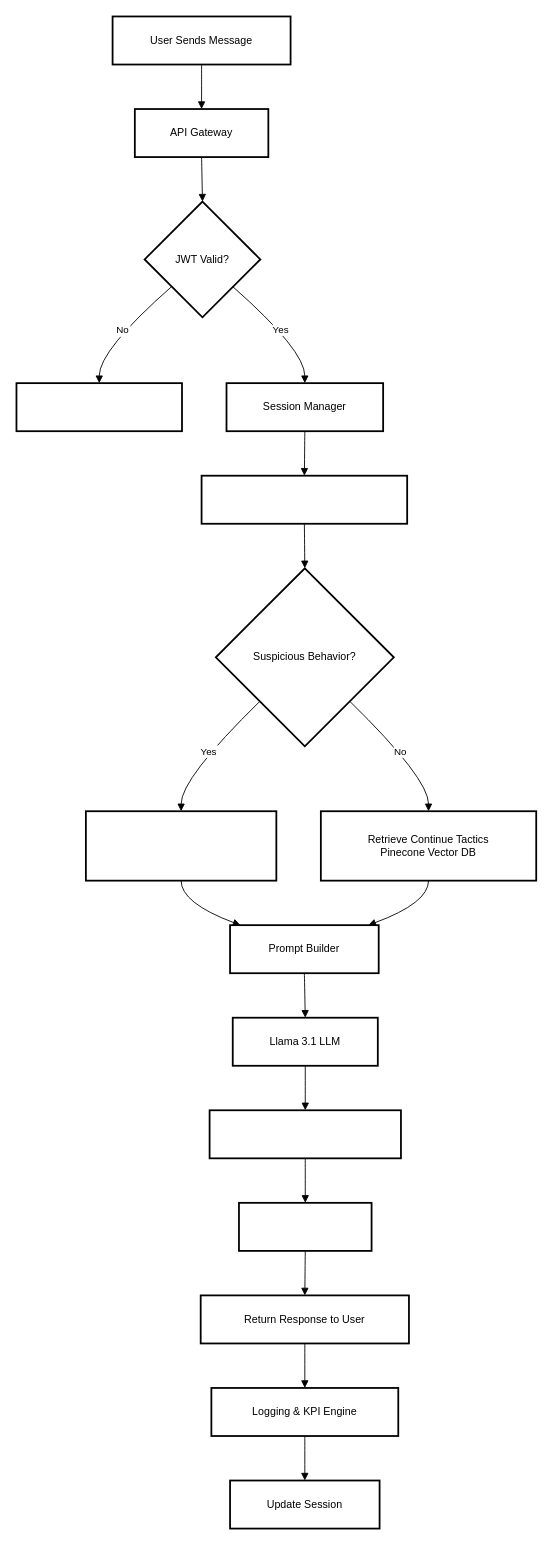
Image size: 552x1544. Some labels were removed from this diagram. The box of each missing label's shape, as (x1, y1, x2, y2) in pixels:
401 Unauthorized: (15, 382, 182, 432)
Generate AI Response: (208, 1109, 401, 1159)
Message Analysis Engine: (200, 474, 408, 524)
Retrieve Pivot Tactics Pinecone Vector DB: (85, 810, 277, 881)
Safety Filter: (238, 1202, 372, 1251)
